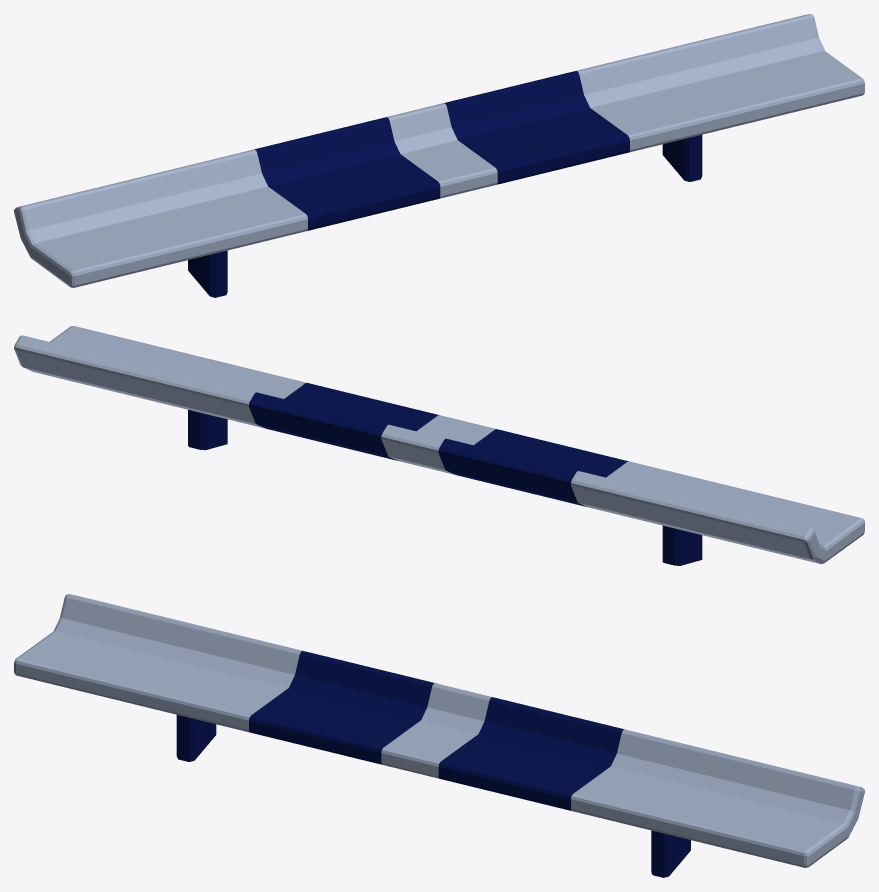
Rendered from spoiler2.fbx.
3 renders of one model, top to bottom at view 1: azimuth 30°, elevation 25°; view 2: azimuth 150°, elevation 25°; view 3: azimuth 330°, elevation 25°, orthographic.
Parts seen in each view (by area): view 1: spoiler2.001; view 2: spoiler2.001; view 3: spoiler2.001.
Boxes of the visible parts, box(x1,y1,x2,y2) form: spoiler2.001: box(14, 14, 864, 297); spoiler2.001: box(14, 326, 864, 565); spoiler2.001: box(14, 594, 864, 877).
Size of the model in its own units: 2.15 by 0.2518 by 0.2766.
